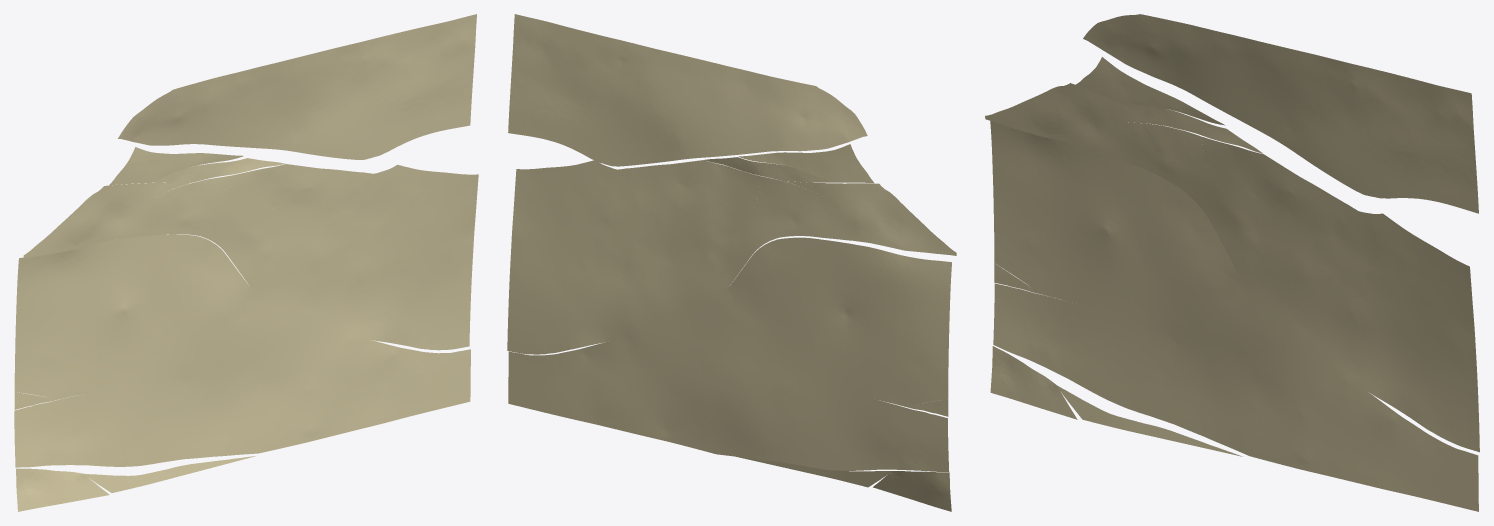
The model's file is 09_VirginCoal_50m_GGERFS_Predrill.gltf.
3 renders of one model, left to right at view 1: azimuth 30°, elevation 25°; view 2: azimuth 150°, elevation 25°; view 3: azimuth 330°, elevation 25°, orthographic. The views are drawn at different scales.
Visible parts, largest first — view 1: 09_VIRGINCOAL_50M_GGERFS_PREDRILL; view 2: 09_VIRGINCOAL_50M_GGERFS_PREDRILL; view 3: 09_VIRGINCOAL_50M_GGERFS_PREDRILL.
Part boxes in pixels (left/top/right/bottom): 09_VIRGINCOAL_50M_GGERFS_PREDRILL: left=14, top=14, right=478, bottom=511; 09_VIRGINCOAL_50M_GGERFS_PREDRILL: left=507, top=14, right=956, bottom=511; 09_VIRGINCOAL_50M_GGERFS_PREDRILL: left=985, top=14, right=1479, bottom=511.
Bounding box in the file's own units: 5005 × 4150 × 235.
